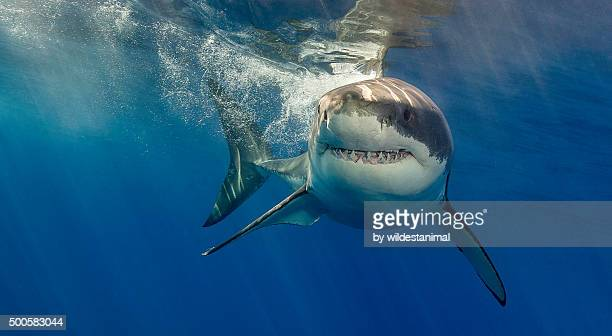shark: (192, 64, 520, 311)
